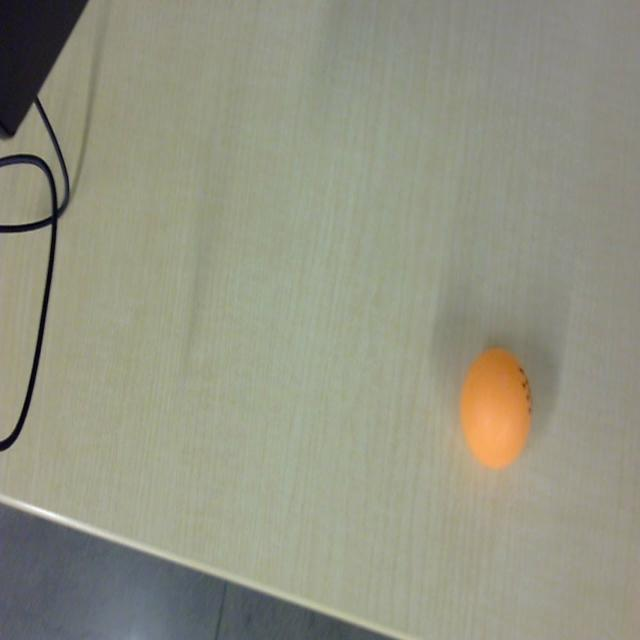ball: (459, 346, 534, 470)
